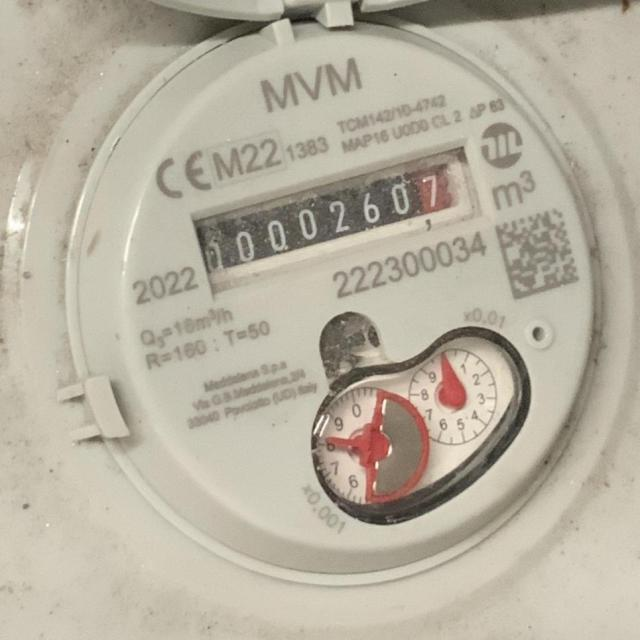gaz_meter: (76, 22, 594, 588)
indication: (192, 157, 465, 280)
